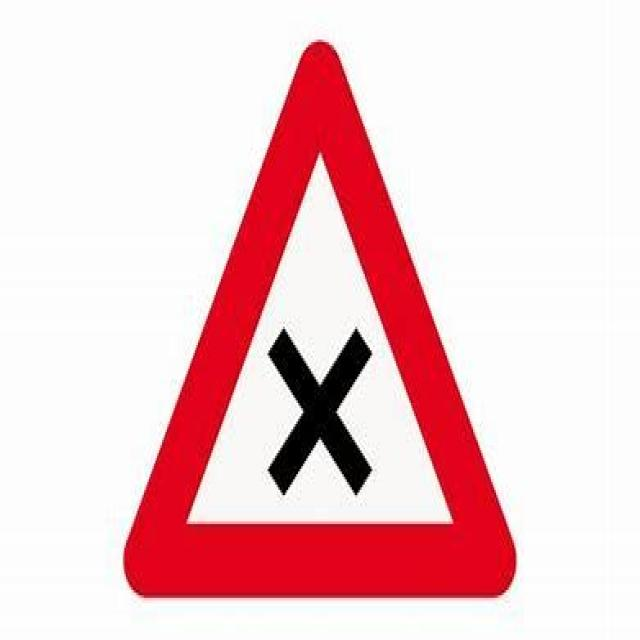cross_road: (120, 31, 516, 608)
